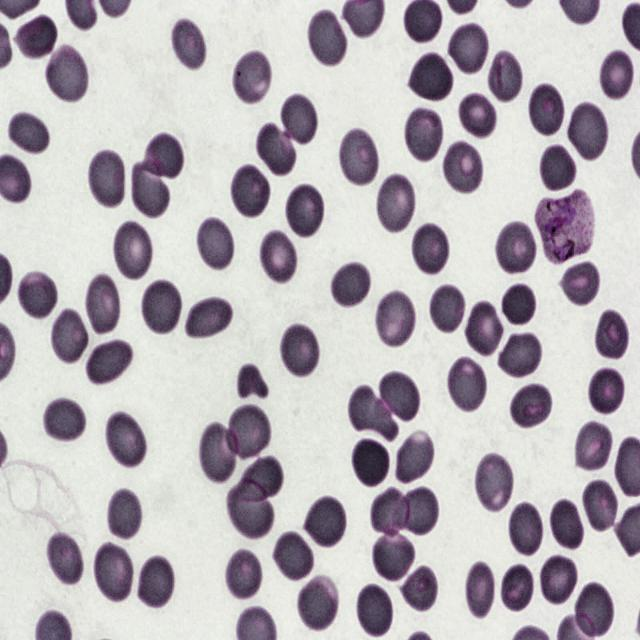red blood cell: (566, 98, 610, 164), (344, 382, 396, 437), (44, 42, 90, 104), (224, 403, 272, 462), (474, 450, 516, 516), (226, 483, 276, 538), (92, 539, 134, 604), (374, 172, 416, 235), (306, 7, 348, 70), (231, 456, 286, 504), (140, 277, 183, 338), (337, 126, 379, 188), (183, 293, 234, 344), (198, 420, 238, 485), (284, 184, 328, 243), (104, 411, 148, 470), (112, 219, 153, 282), (572, 582, 616, 640), (85, 272, 124, 337), (302, 495, 348, 550), (38, 394, 90, 442), (255, 120, 298, 178), (86, 148, 126, 210), (494, 220, 538, 276), (296, 573, 339, 630), (136, 554, 178, 612), (127, 166, 170, 222), (507, 380, 555, 430), (196, 213, 236, 273), (376, 292, 418, 349), (279, 322, 321, 379), (408, 53, 454, 105), (376, 370, 420, 424), (448, 20, 490, 76), (442, 139, 483, 196), (446, 356, 487, 413), (45, 533, 86, 590), (231, 46, 272, 103), (404, 105, 444, 163), (496, 330, 542, 380), (372, 531, 416, 583), (394, 485, 438, 537), (140, 132, 184, 184), (464, 300, 504, 357), (49, 306, 88, 364), (394, 431, 435, 486), (230, 163, 270, 219), (258, 230, 298, 286), (272, 530, 314, 583), (16, 268, 58, 321), (527, 82, 566, 139), (86, 339, 133, 385), (170, 19, 210, 73), (454, 88, 497, 138), (410, 221, 449, 276), (399, 563, 441, 614), (581, 478, 619, 534), (350, 436, 390, 489), (13, 13, 57, 61), (586, 365, 626, 417), (538, 554, 577, 607), (279, 93, 318, 146), (224, 547, 262, 601), (598, 48, 635, 103), (507, 500, 543, 556), (8, 110, 50, 158), (574, 421, 612, 474), (594, 307, 632, 360), (559, 259, 600, 308), (370, 488, 411, 537), (330, 260, 370, 310), (486, 49, 523, 103), (107, 488, 144, 541), (546, 500, 586, 549), (464, 560, 496, 621), (428, 282, 464, 336), (356, 585, 394, 636), (539, 144, 576, 194), (499, 281, 536, 331), (235, 362, 272, 410), (500, 562, 534, 613)
trophozoite: (534, 188, 598, 263)
